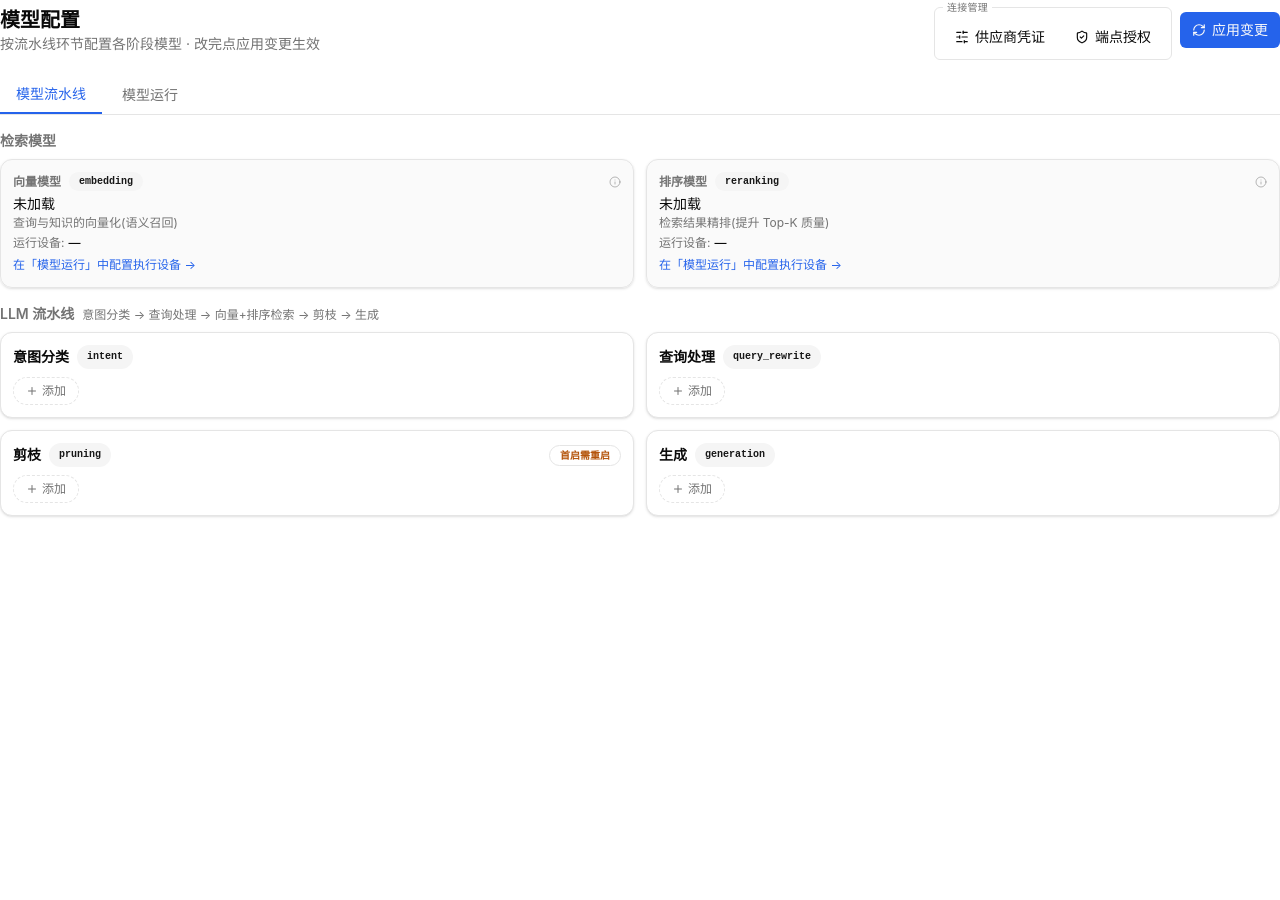
Test: LLMProviders #4 删除链路(block-if-referenced) › 取消不发起删除请求
What coordinates should you click on to do the following:
click the button "供应商凭证"
I would click on:
 (1000, 37)
Its box is [943, 19, 1057, 55].
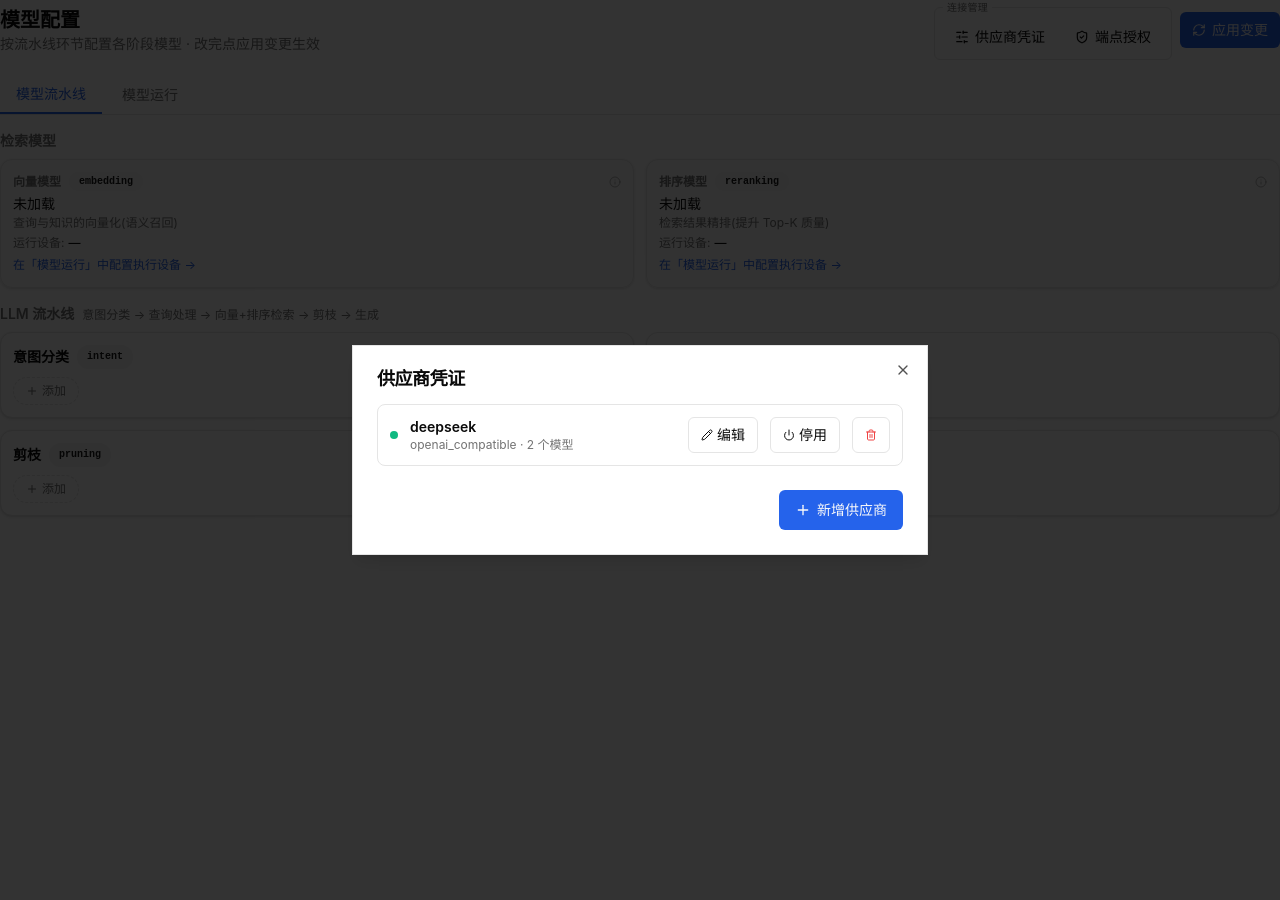
What coordinates should you click on to do the following:
click the button named "删除 deepseek"
I would click on:
 (871, 435)
Its box is [852, 417, 890, 453].
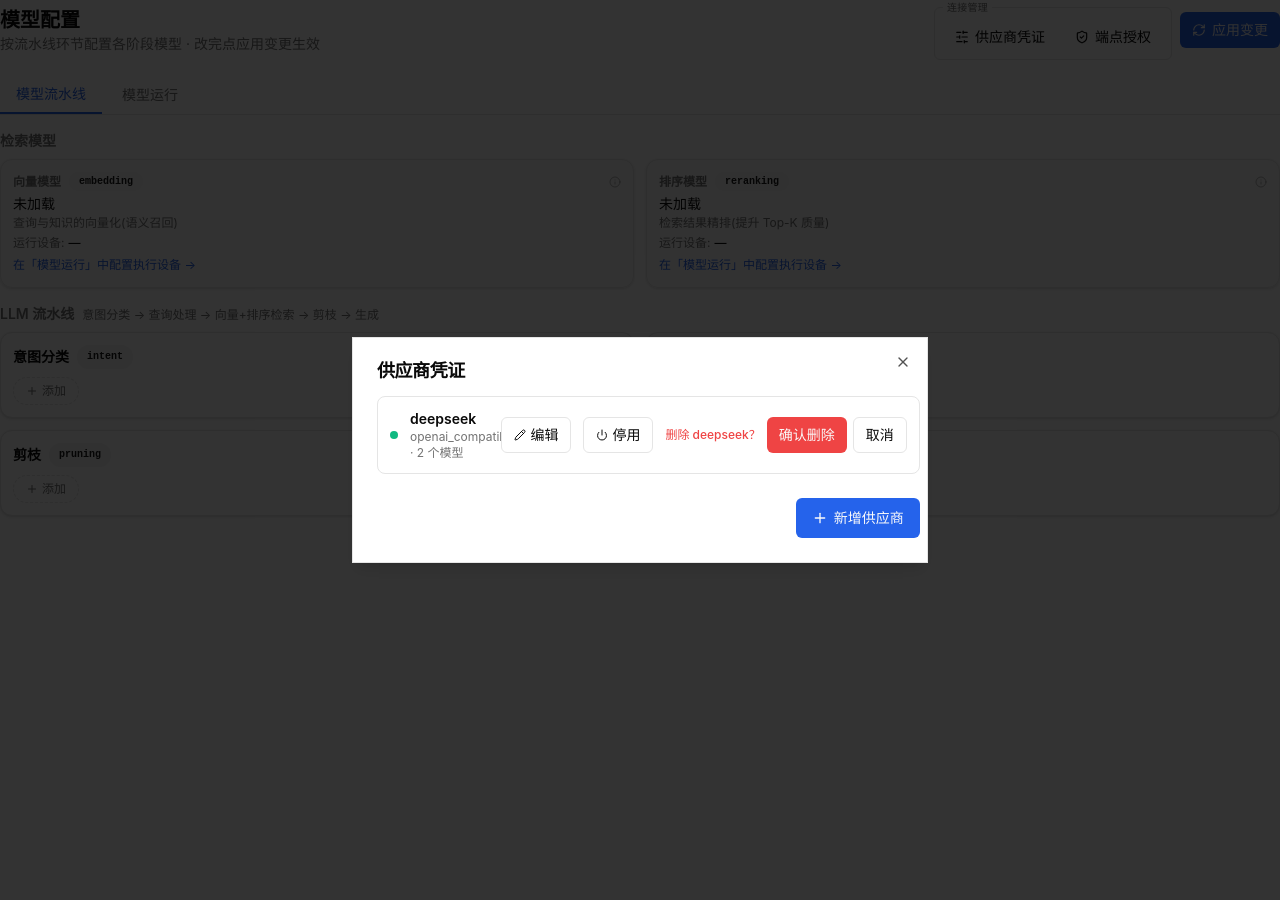
What coordinates should you click on to do the following:
click the button "取消"
I would click on:
 (880, 435)
Its box is [853, 417, 907, 453].
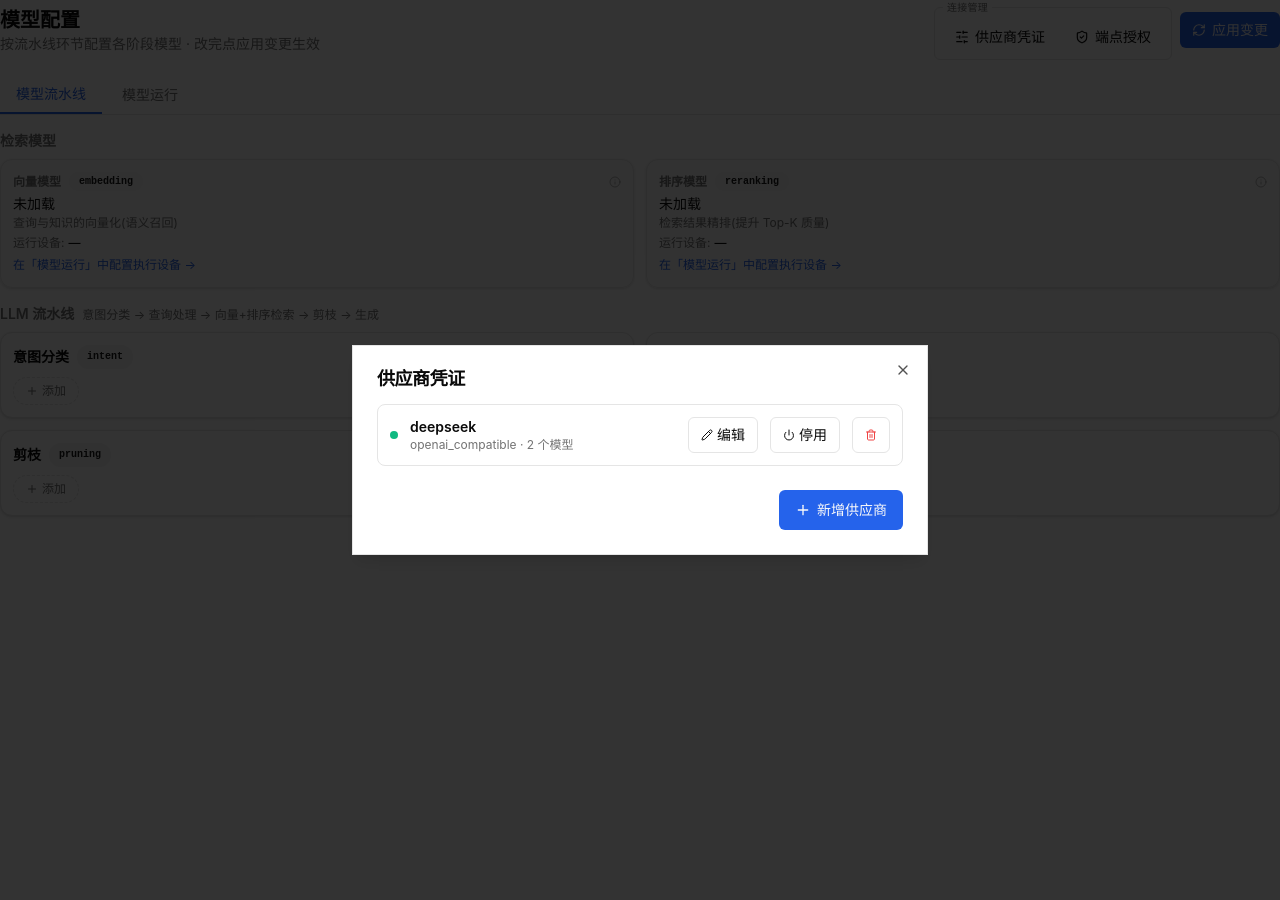
Expected: the button "确认删除" is gone
